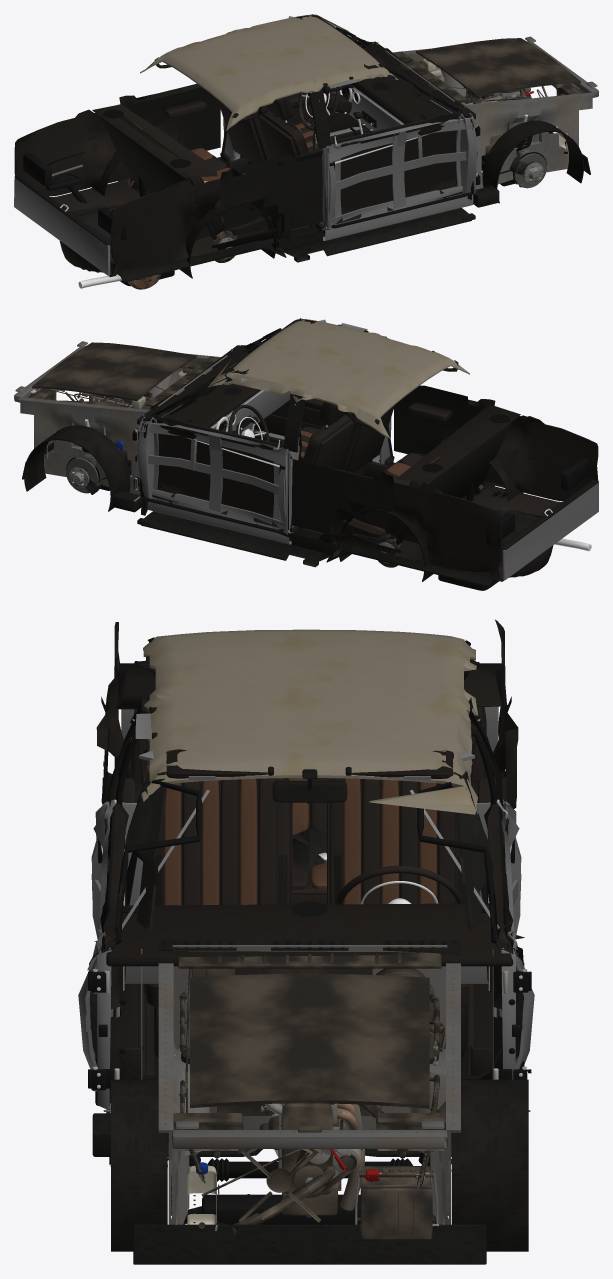
The model's file is lambari_completo.glb.
3 views of the same model, one above another, from view 1: azimuth 30°, elevation 25°; view 2: azimuth 150°, elevation 25°; view 3: azimuth 270°, elevation 25° (orthographic). The views are drawn at different scales.
Parts seen in each view (by area): view 1: interior_portamalas_carpete, interior_forro_teto, door_card_fr_chapa, interior_lateral_traseira_dir, door_card_fr, hood_manta, engine_paralama_interno_dir, interior_painel, under_assoalho, interior_lateral_traseira_esq, interior_banco_traseiro, interior_portamalas_tampao (+21 smaller); view 2: interior_portamalas_carpete, interior_forro_teto, door_card_fl_chapa, interior_lateral_traseira_esq, door_card_fl, hood_manta, engine_paralama_interno_esq, under_assoalho, interior_painel, interior_lateral_traseira_dir, interior_banco_traseiro, under_caixa_roda_fl (+21 smaller); view 3: interior_forro_teto, hood_manta, interior_painel, interior_banco_dianteiro_dir, under_saias, interior_banco_dianteiro_esq, under_caixa_roda_fl, engine_corta_fogo, under_caixa_roda_fr, engine_travessa, interior_acabamento_colunas, engine_motor (+28 smaller).
Part boxes in pixels (x1,y1,x2,y2): interior_portamalas_carpete: [14, 109, 220, 277]; interior_forro_teto: [140, 14, 398, 130]; door_card_fr_chapa: [325, 114, 477, 231]; interior_lateral_traseira_dir: [210, 149, 322, 251]; door_card_fr: [330, 110, 473, 223]; hood_manta: [416, 38, 580, 96]; engine_paralama_interno_dir: [464, 92, 595, 189]; interior_painel: [330, 41, 475, 158]; under_assoalho: [73, 183, 475, 282]; interior_lateral_traseira_esq: [119, 83, 221, 184]; interior_banco_traseiro: [101, 115, 271, 239]; interior_portamalas_tampao: [92, 104, 217, 177]; interior_portamalas_carpete: [393, 415, 598, 581]; interior_forro_teto: [208, 319, 469, 438]; door_card_fl_chapa: [137, 417, 289, 534]; interior_lateral_traseira_esq: [290, 455, 401, 557]; door_card_fl: [141, 414, 285, 527]; hood_manta: [32, 342, 196, 401]; engine_paralama_interno_esq: [17, 397, 149, 494]; under_assoalho: [137, 488, 539, 587]; interior_painel: [137, 345, 290, 470]; interior_lateral_traseira_dir: [394, 385, 495, 487]; interior_banco_traseiro: [341, 422, 511, 544]; under_caixa_roda_fl: [24, 425, 130, 511]; interior_forro_teto: [134, 629, 479, 814]; hood_manta: [190, 973, 429, 1108]; interior_painel: [106, 901, 513, 983]; interior_banco_dianteiro_dir: [143, 778, 292, 1057]; under_saias: [92, 1113, 486, 1264]; interior_banco_dianteiro_esq: [327, 778, 469, 1057]; under_caixa_roda_fl: [452, 1079, 528, 1251]; engine_corta_fogo: [172, 945, 447, 1129]; under_caixa_roda_fr: [111, 1079, 167, 1251]; engine_travessa: [172, 1105, 447, 1150]; interior_acabamento_colunas: [107, 698, 503, 931]; engine_motor: [259, 1103, 364, 1215].
Size of what is drawn, in the model's own units: 3.96 by 1.32 by 1.52.
Materials: 52 (52 with a texture image).
